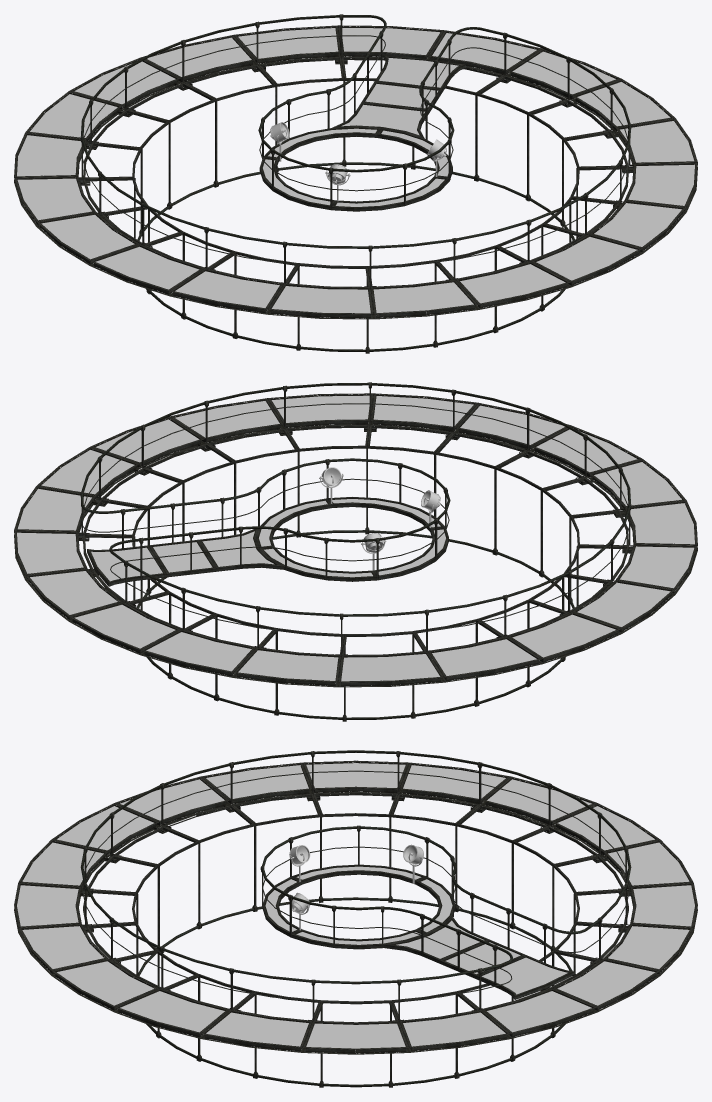
Rendered from tesla_modules_core_bottom_floor.dae.
3 renders of one model, top to bottom at view 1: azimuth 30°, elevation 25°; view 2: azimuth 150°, elevation 25°; view 3: azimuth 270°, elevation 25°, orthographic.
Visible parts, largest first — view 1: polySurface747, polySurface748, polySurface732; view 2: polySurface747, polySurface748, polySurface732; view 3: polySurface747, polySurface748, polySurface732.
Part boxes in pixels (<box>): polySurface747: <box>17,28,694,313</box>; polySurface748: <box>14,14,697,353</box>; polySurface732: <box>270,122,446,201</box>; polySurface747: <box>17,395,694,681</box>; polySurface748: <box>14,382,697,721</box>; polySurface732: <box>319,467,440,570</box>; polySurface747: <box>17,763,694,1052</box>; polySurface748: <box>14,750,697,1087</box>; polySurface732: <box>289,844,423,930</box>.
Size of the model in its own units: 18.48 by 3.86 by 18.48.
